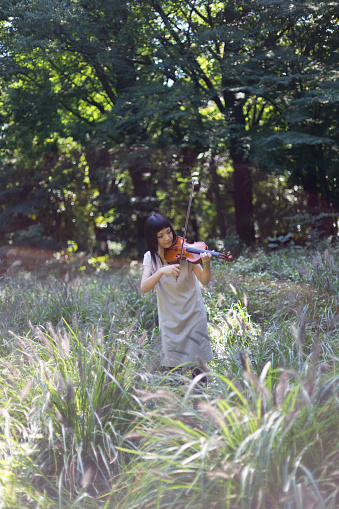em pe: (135, 207, 222, 375)
